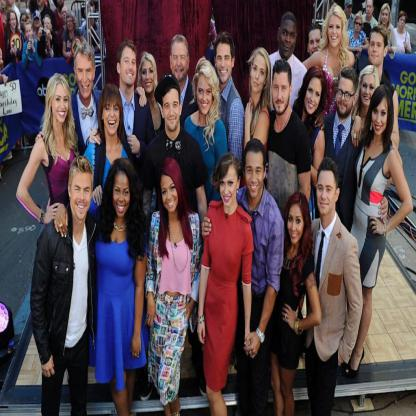face: (72, 172, 92, 221), (246, 152, 265, 198), (317, 172, 336, 217), (272, 72, 291, 116), (114, 173, 132, 219), (337, 74, 355, 118), (77, 53, 94, 99), (196, 72, 213, 116), (162, 173, 180, 214), (280, 19, 298, 60), (289, 204, 306, 246), (104, 96, 121, 137), (306, 74, 323, 114), (165, 91, 181, 133), (221, 164, 237, 206), (372, 97, 389, 136), (173, 41, 189, 82), (217, 42, 233, 83), (252, 53, 268, 93), (54, 85, 70, 124), (121, 46, 137, 85), (370, 30, 385, 67), (361, 72, 376, 106), (329, 14, 343, 48), (142, 59, 155, 95), (310, 29, 322, 60), (382, 9, 390, 26), (355, 16, 363, 32), (10, 12, 17, 30), (367, 2, 374, 19), (26, 25, 33, 41), (45, 18, 52, 33), (400, 14, 407, 28), (68, 18, 74, 32), (35, 14, 41, 28), (347, 3, 353, 16), (62, 10, 68, 22), (46, 37, 51, 50), (22, 16, 27, 29)
